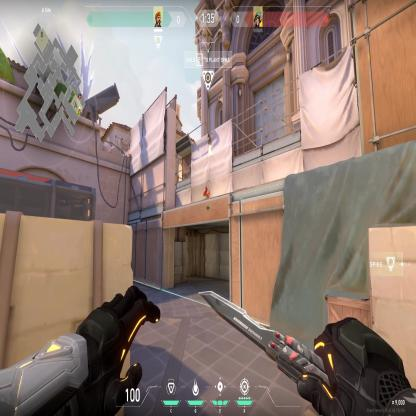enemy: (203, 184, 210, 200)
